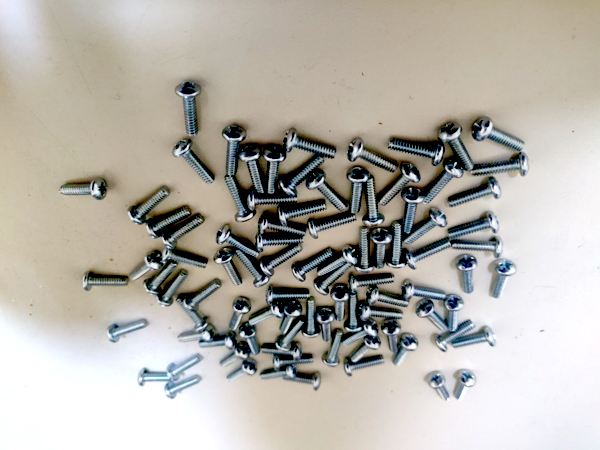shortscrew: (471, 116, 526, 153), (173, 139, 216, 185), (422, 160, 464, 206), (378, 163, 422, 206), (280, 156, 324, 198), (438, 121, 474, 172), (306, 169, 348, 212), (347, 139, 399, 173), (127, 187, 171, 226), (388, 137, 445, 167), (284, 128, 337, 160), (448, 177, 502, 208), (403, 208, 448, 245), (161, 214, 206, 250), (145, 206, 192, 240), (471, 153, 531, 178), (404, 240, 452, 271), (225, 176, 257, 222), (292, 248, 335, 282), (176, 82, 203, 136), (216, 225, 260, 258), (259, 244, 303, 277), (234, 249, 271, 287), (448, 212, 500, 239), (307, 213, 357, 240), (278, 200, 327, 227), (434, 321, 475, 353), (238, 145, 265, 193), (183, 279, 222, 312), (222, 125, 247, 176), (362, 174, 386, 227), (143, 261, 179, 296), (177, 296, 211, 333), (314, 264, 353, 296), (318, 246, 359, 276), (346, 166, 371, 214), (258, 213, 308, 237), (156, 271, 188, 308), (263, 145, 287, 194), (451, 236, 503, 258), (214, 248, 243, 287), (59, 178, 108, 201), (247, 189, 298, 211), (401, 279, 447, 303), (401, 187, 424, 234), (452, 326, 497, 350), (82, 271, 130, 293), (385, 221, 407, 269), (416, 299, 448, 332), (492, 260, 518, 300), (366, 285, 411, 308), (349, 272, 394, 295), (276, 318, 306, 352), (129, 252, 163, 282), (161, 248, 209, 269), (249, 300, 286, 327), (256, 233, 305, 253), (167, 355, 203, 382), (343, 320, 379, 347), (107, 320, 149, 343), (370, 228, 393, 270), (355, 227, 376, 273), (165, 375, 202, 400), (265, 286, 311, 306), (345, 354, 385, 377), (359, 303, 404, 323), (350, 333, 381, 362), (393, 333, 419, 367), (456, 254, 478, 294), (261, 341, 304, 361), (279, 300, 303, 335), (322, 329, 344, 367), (344, 292, 364, 333), (220, 342, 251, 368), (229, 296, 252, 331), (199, 331, 238, 351), (228, 358, 259, 383), (445, 294, 465, 332), (283, 372, 321, 391), (273, 354, 315, 371), (331, 285, 350, 322), (239, 323, 260, 356), (427, 372, 450, 402), (382, 319, 402, 353), (456, 370, 477, 402), (139, 368, 174, 387), (178, 327, 217, 344), (260, 365, 297, 380)
